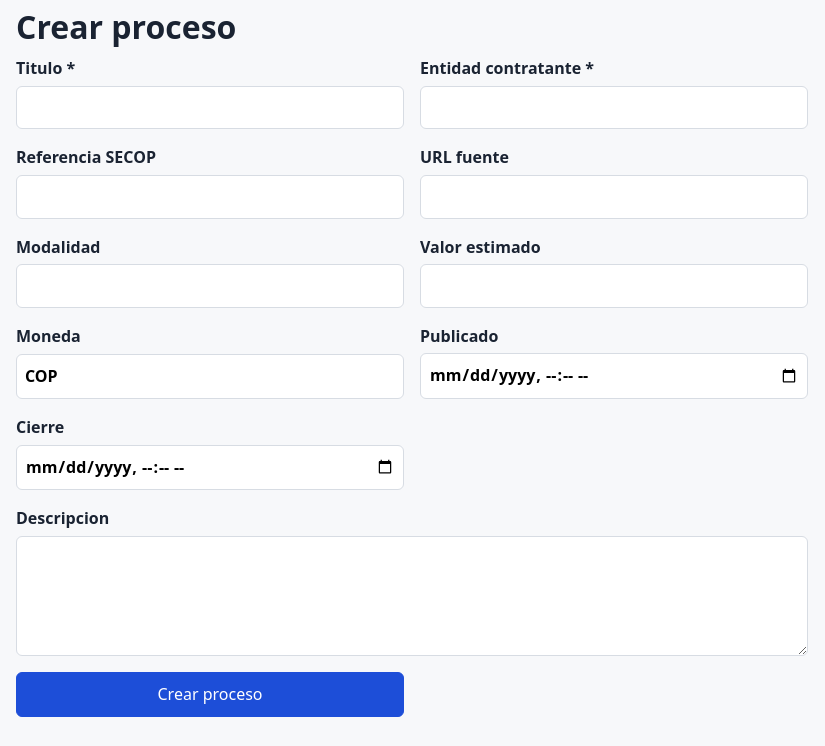
Scenario: crear proceso › muestra error estructurado del servidor
Type "Proceso" into the field labelled "Titulo *" at (210, 108), box [16, 86, 404, 129]
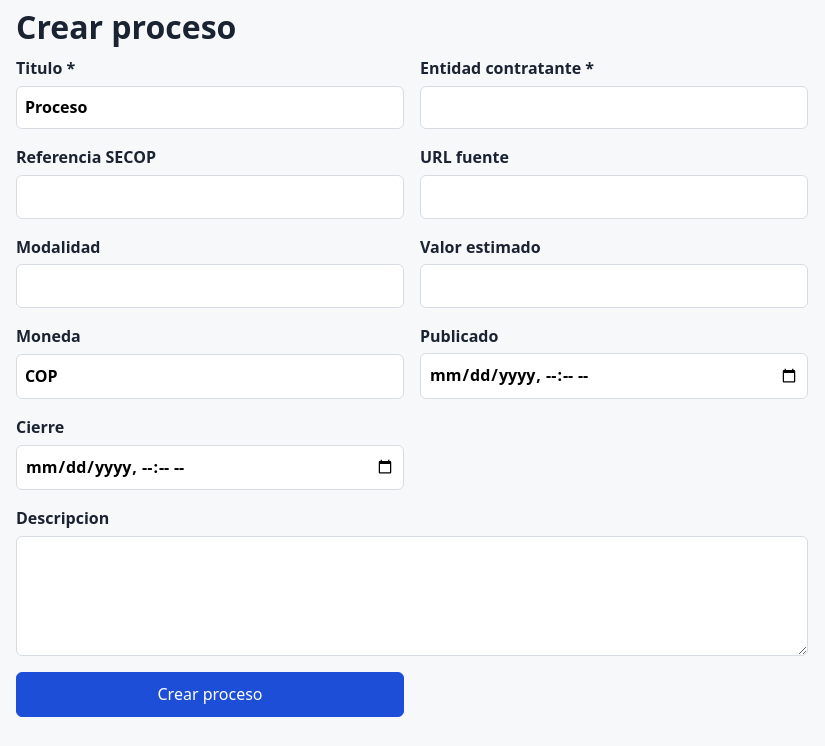
Type "Entidad" into the field labelled "Entidad contratante *" at (614, 108), box [420, 86, 808, 129]
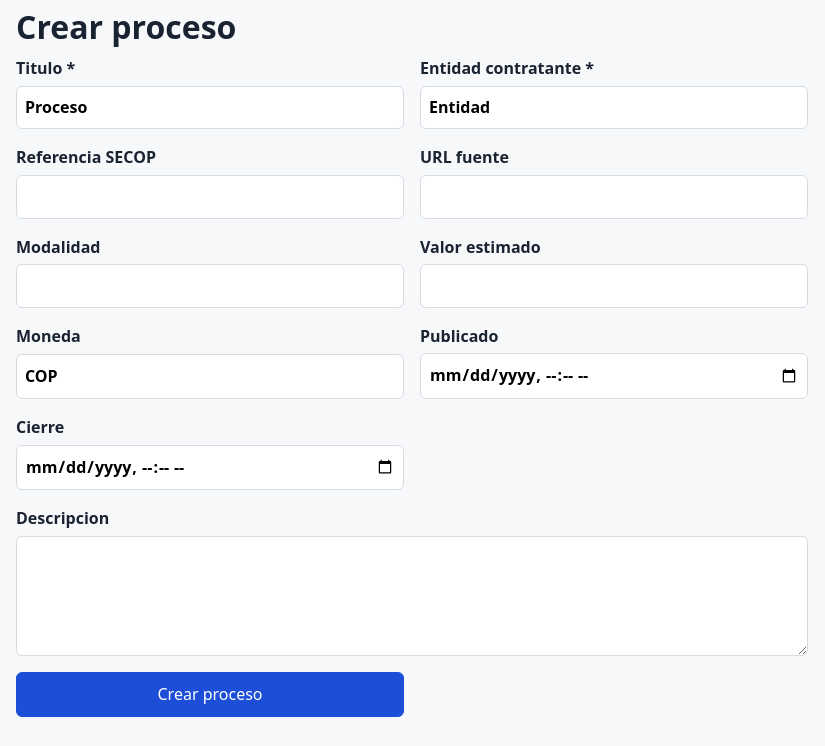
Click the button "Crear proceso" at (210, 695), box [16, 672, 404, 717]
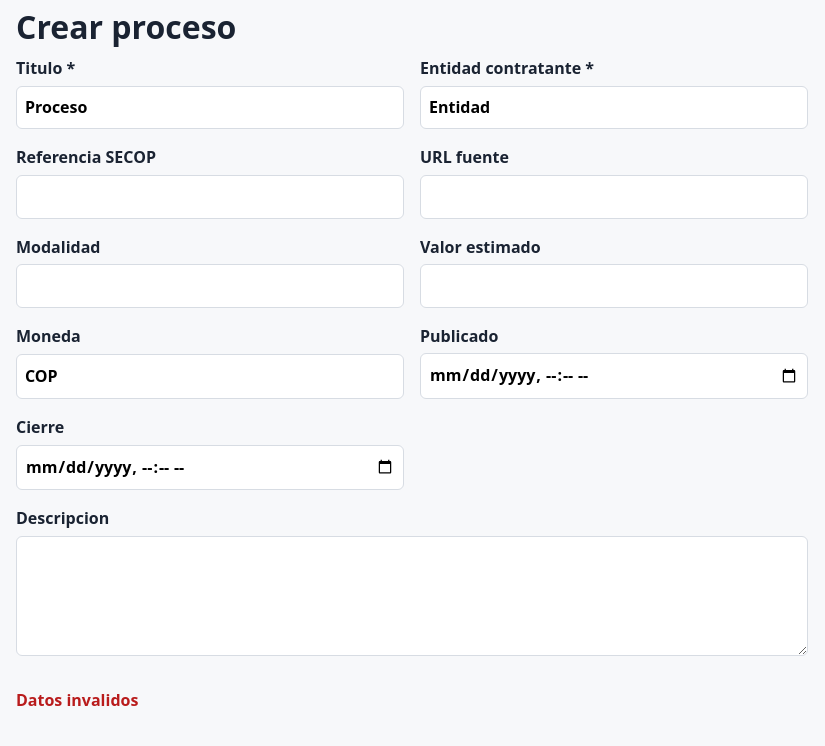
Result: the message reads "Datos invalidos" at [16, 689, 138, 711]
